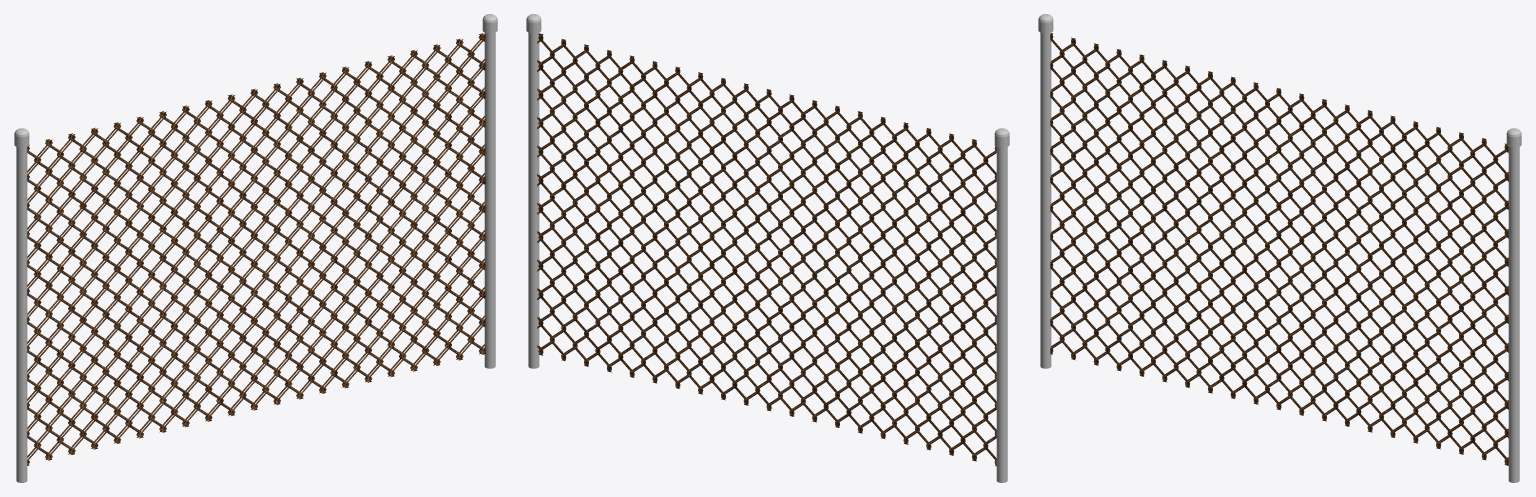
The model's file is fenceend.fbx.
The picture shows the model from 3 angles, left to right: view 1: azimuth 30°, elevation 25°; view 2: azimuth 150°, elevation 25°; view 3: azimuth 330°, elevation 25°; orthographic projection.
Parts seen in each view (by area): view 1: fence; view 2: fence; view 3: fence.
Part boxes in pixels (x1=…): fence: x1=14, y1=14, x2=497, y2=482; fence: x1=526, y1=14, x2=1009, y2=482; fence: x1=1038, y1=14, x2=1521, y2=482.
Bounding box in the file's own units: 27.91 × 19.44 × 0.7571.
